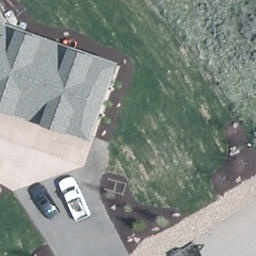car: (27, 183, 61, 222)
pickup: (57, 175, 91, 224)
